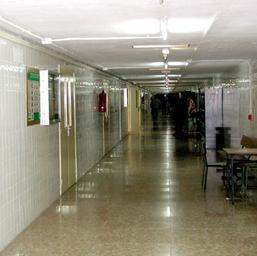Puerta: (59, 68, 76, 187), (104, 80, 110, 151)
